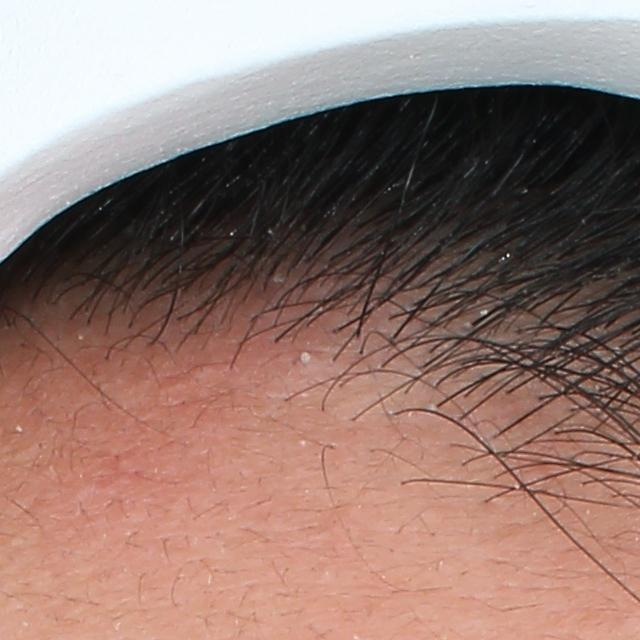pustule: (292, 345, 318, 368)
